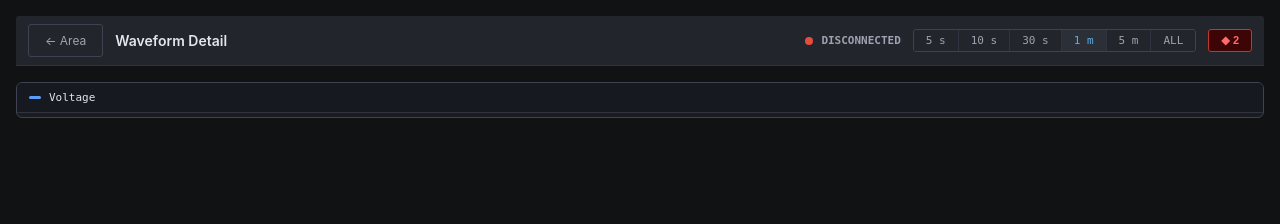
Level3Detail — alarm panel › alarm panel contains ACK button for each unack alarm
Click the button with class "hmi-alarm-badge": (1230, 40) x1=1208 y1=29 x2=1252 y2=52
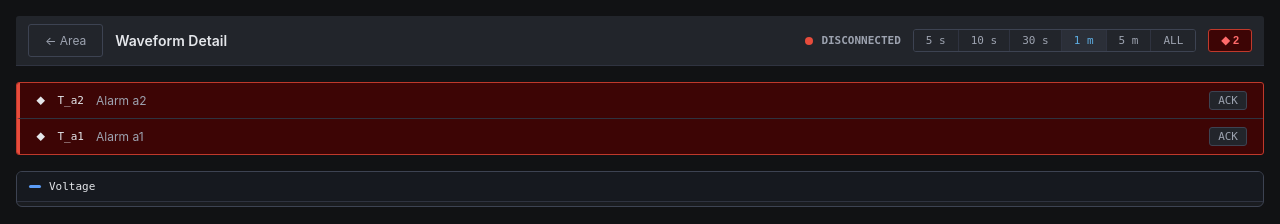
Result: the number of buttons with class "hmi-alarm-row__ack" is 2 at x1=1209 y1=91 x2=1247 y2=110; x1=1209 y1=127 x2=1247 y2=146
